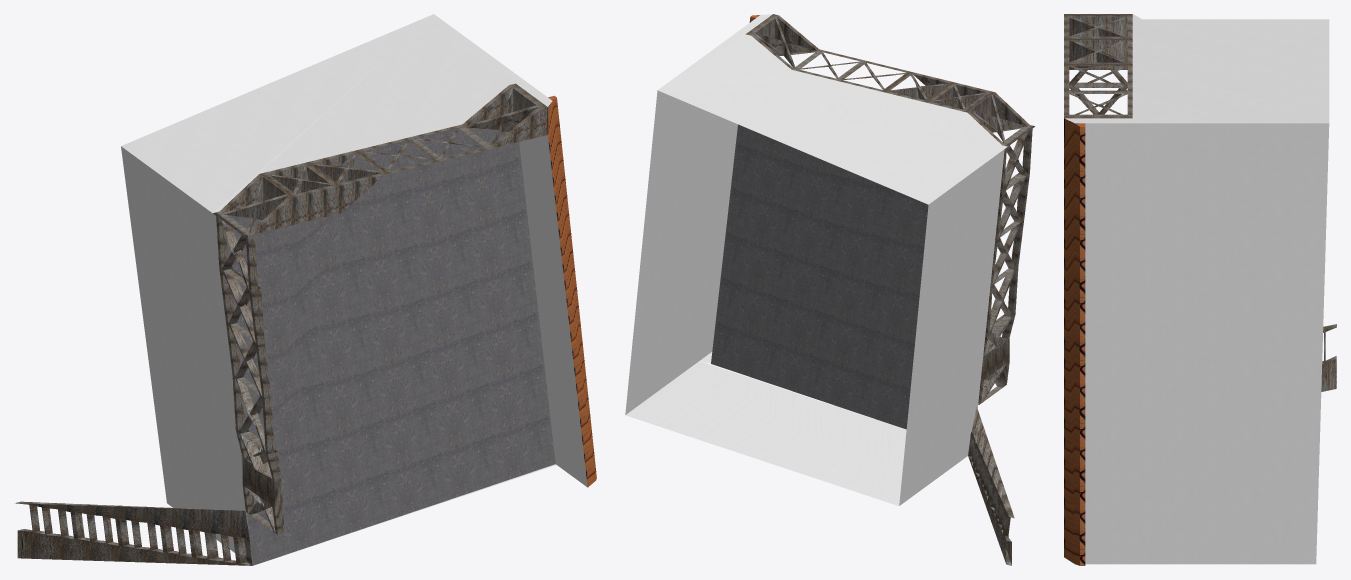
File: Aia_17-origo.obj
The picture shows the model from 3 angles, left to right: view 1: azimuth 30°, elevation 25°; view 2: azimuth 150°, elevation 25°; view 3: azimuth 270°, elevation 25°; orthographic projection. The views are drawn at different scales.
Parts seen in each view (by area): view 1: Aia_17; view 2: Aia_17, xxx; view 3: Aia_17.
Part boxes in pixels (<box>): Aia_17: <box>15,14,596,565</box>; Aia_17: <box>625,14,1034,565</box>; xxx: <box>625,361,906,505</box>; Aia_17: <box>1064,14,1336,565</box>.
Bounding box in the file's own units: 8.69 × 8 × 4.14.
Materials: 4 (4 with a texture image).
